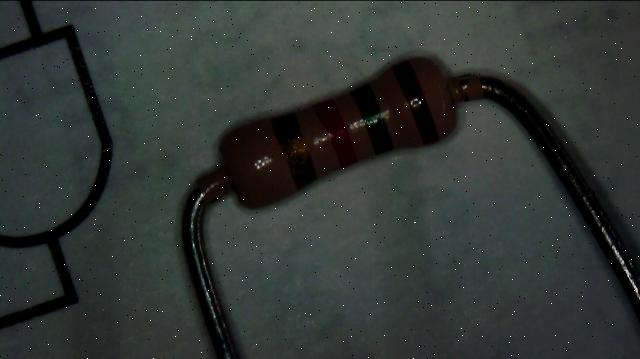brown: (391, 61, 438, 144)
gold: (270, 112, 315, 187)
green: (352, 82, 392, 154)
red: (314, 98, 356, 167)
resistor: (196, 26, 487, 235)
